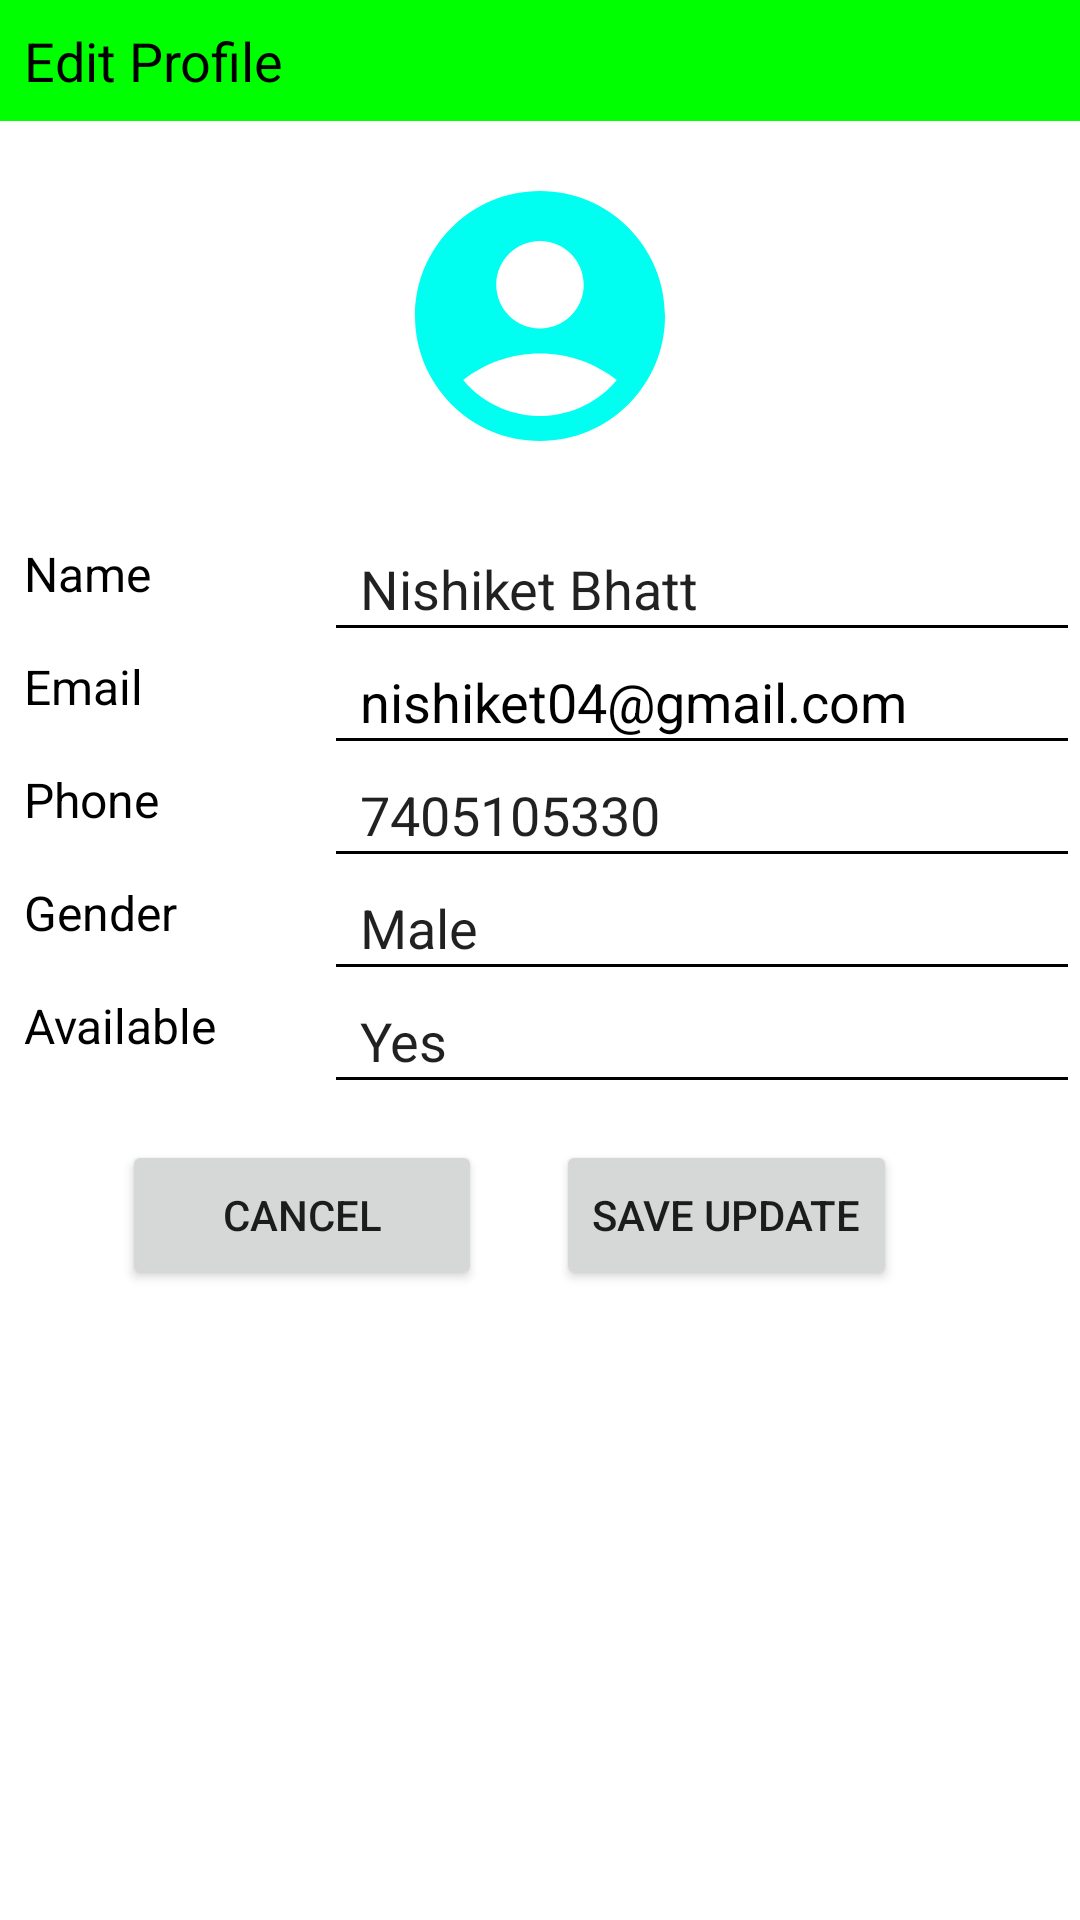

Locate icon controls on the screen. Image size 1080w x 1920h, boxes as (x1, y1, x2, y2).
account circle: (415, 191, 665, 441)
